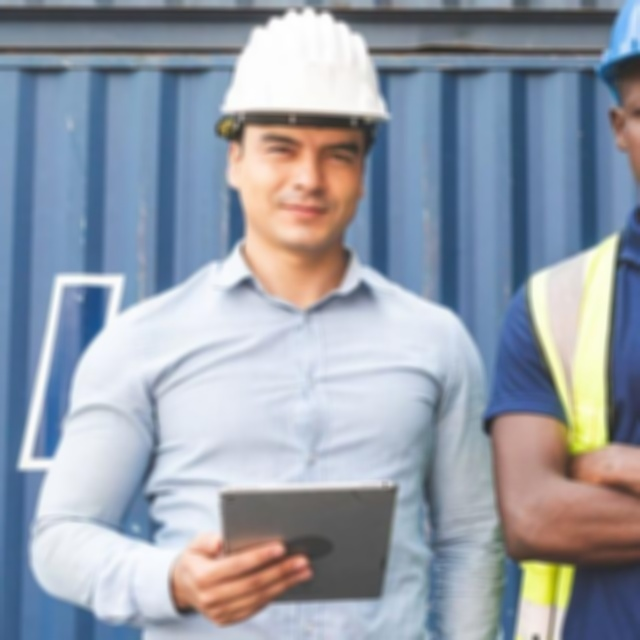Con_Casco: (222, 5, 394, 243)
Sin_Chaleco: (79, 256, 490, 624)
